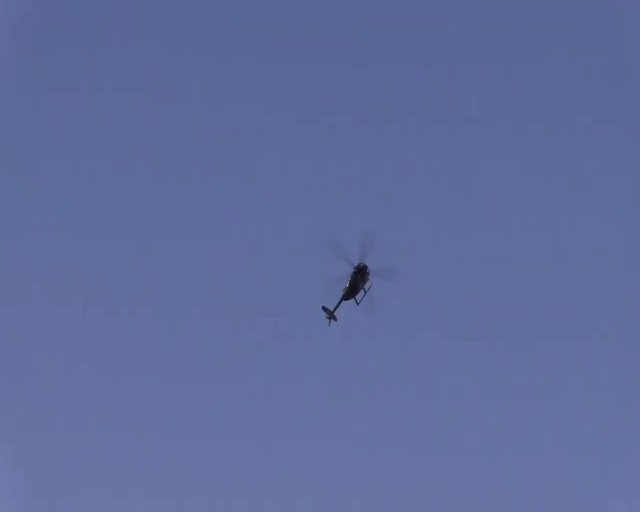HELICOPTER: (320, 228, 397, 325)
